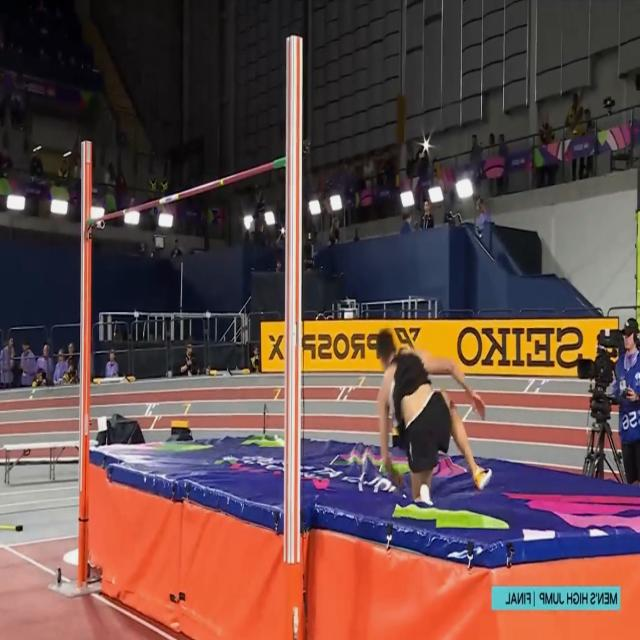land: (377, 329, 490, 505)
